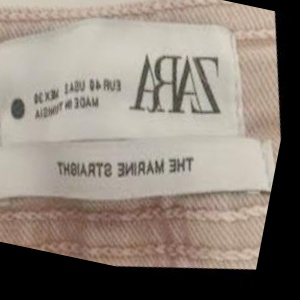zara: (146, 10, 300, 87)
